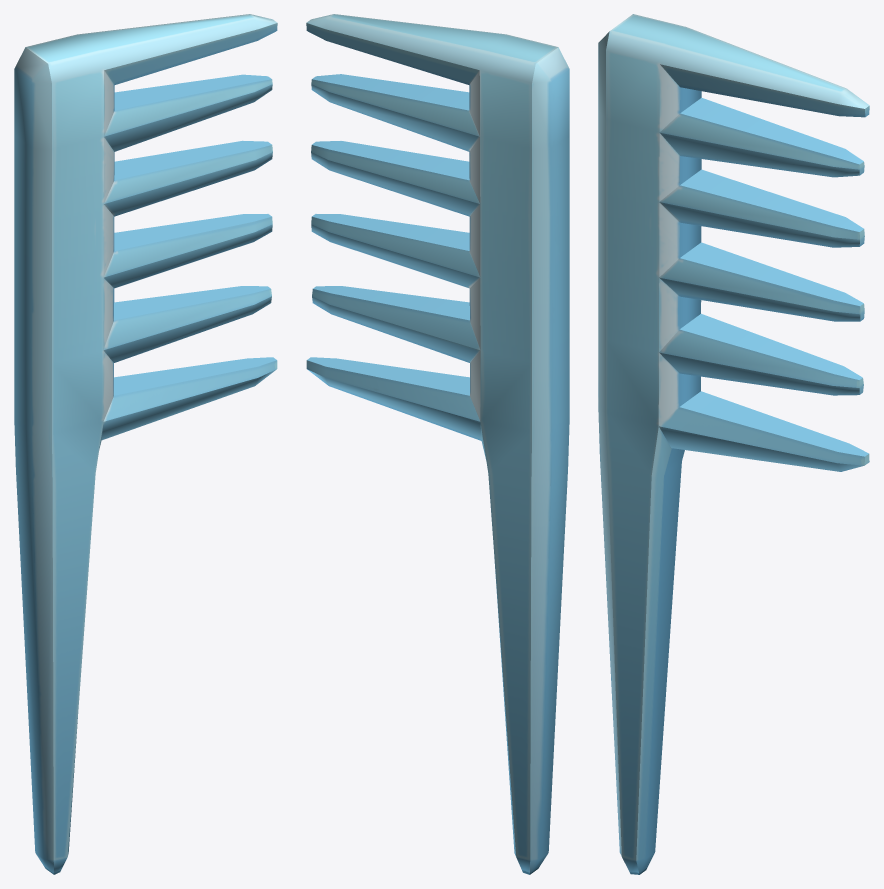
File: bathroom_hairbrush_2.fbx
3 views of the same model, side by side, from view 1: azimuth 30°, elevation 25°; view 2: azimuth 150°, elevation 25°; view 3: azimuth 330°, elevation 25° (orthographic). The views are drawn at different scales.
Visible parts, largest first — view 1: bathroom_hairbrush_2; view 2: bathroom_hairbrush_2; view 3: bathroom_hairbrush_2.
Part boxes in pixels (x1,y1,x2,y2): bathroom_hairbrush_2: (14, 14, 277, 874); bathroom_hairbrush_2: (306, 14, 569, 874); bathroom_hairbrush_2: (598, 14, 869, 874).
Bounding box in the file's own units: 8.91 × 27.68 × 1.87.
